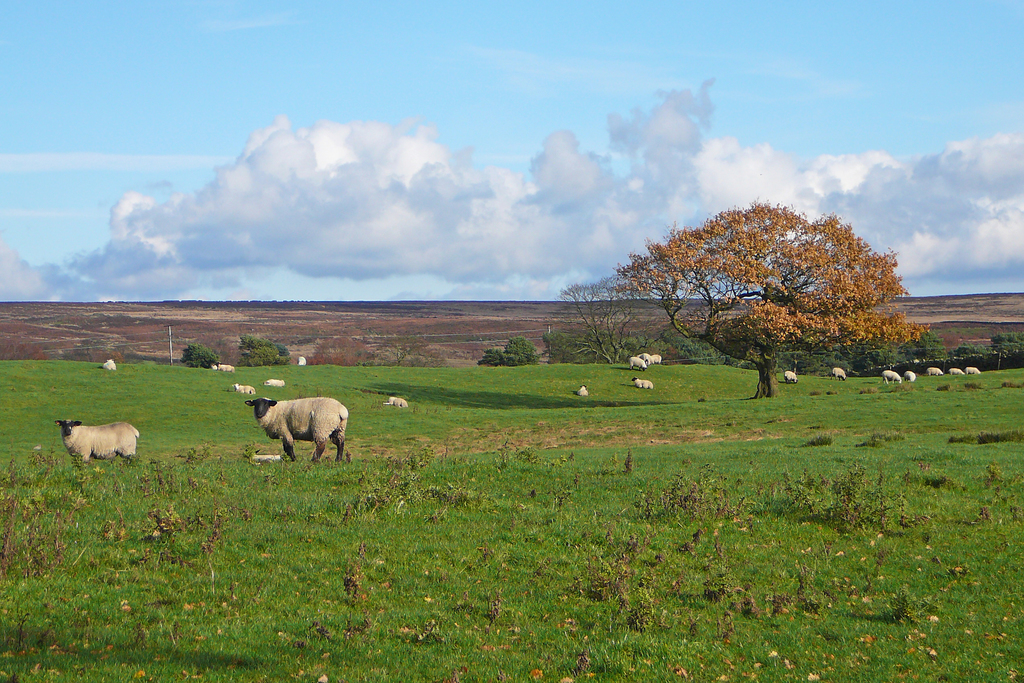sheep: (625, 356, 648, 371), (630, 376, 655, 388), (880, 371, 902, 383), (832, 367, 846, 383), (211, 363, 234, 372), (384, 396, 407, 405), (235, 383, 255, 392), (105, 358, 119, 370), (926, 367, 945, 375), (785, 372, 798, 383), (577, 386, 590, 396), (266, 378, 286, 384), (948, 367, 963, 374), (654, 356, 662, 367), (906, 369, 913, 379), (967, 367, 979, 372)
